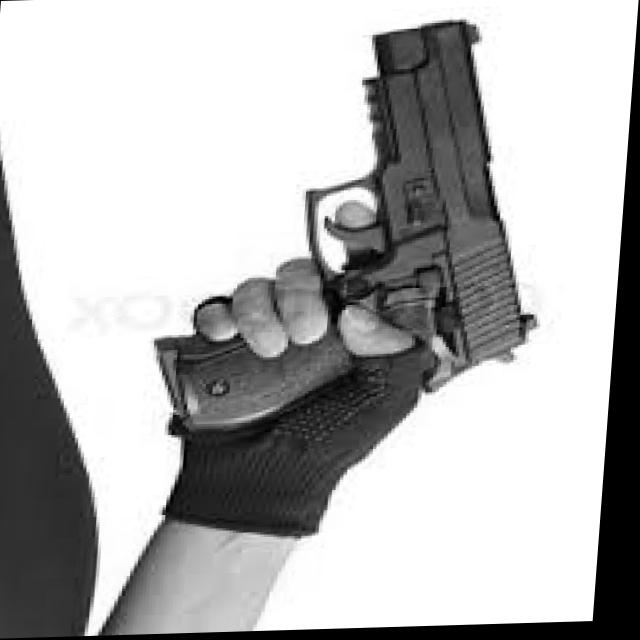handgun: (153, 19, 566, 438)
